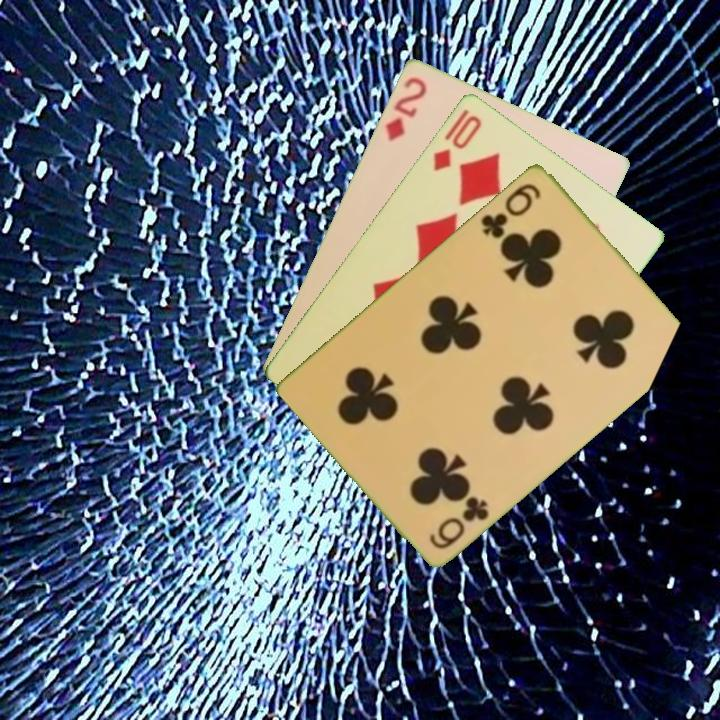10d: (429, 111, 485, 174)
2d: (381, 72, 430, 144)
6c: (477, 179, 544, 241), (426, 491, 492, 552)
